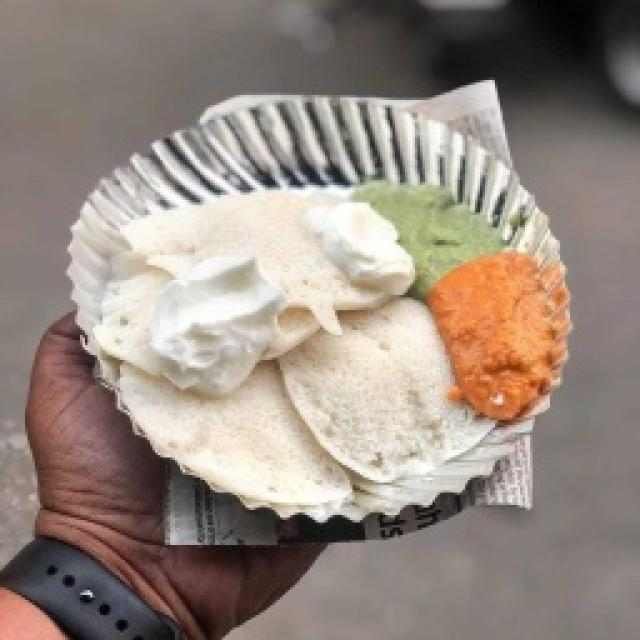idli: (172, 129, 447, 518)
